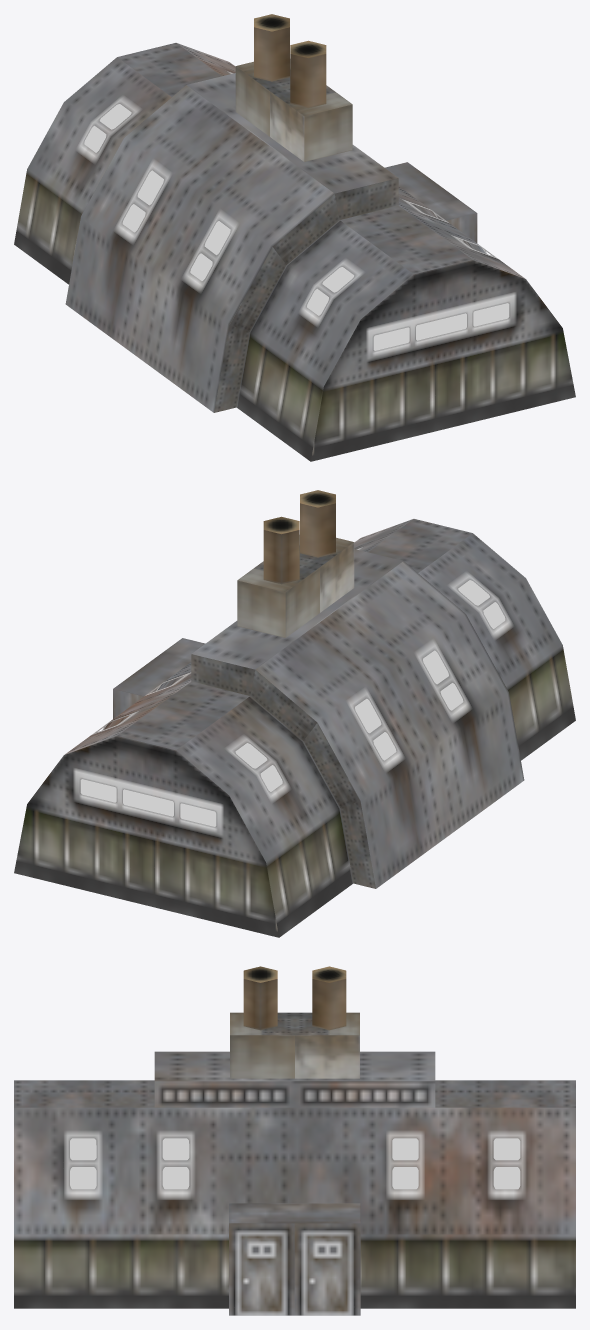
Rendered from singlecivlivingb.glb.
3 renders of one model, top to bottom at view 1: azimuth 30°, elevation 25°; view 2: azimuth 150°, elevation 25°; view 3: azimuth 270°, elevation 25°, orthographic. The views are drawn at different scales.
Visible parts, largest first — view 1: Cylinder04, LitWin_SingleCivLivingB; view 2: Cylinder04, LitWin_SingleCivLivingB; view 3: Cylinder04, LitWin_SingleCivLivingB.
Part boxes in pixels (x1,y1,x2,y2): Cylinder04: [14, 14, 575, 461]; LitWin_SingleCivLivingB: [84, 104, 509, 350]; Cylinder04: [14, 490, 575, 937]; LitWin_SingleCivLivingB: [80, 580, 505, 826]; Cylinder04: [14, 966, 575, 1315]; LitWin_SingleCivLivingB: [70, 1138, 520, 1189].
Bounding box in the file's own units: 8.07 × 7.29 × 13.72.
Materials: 1 (1 with a texture image).
